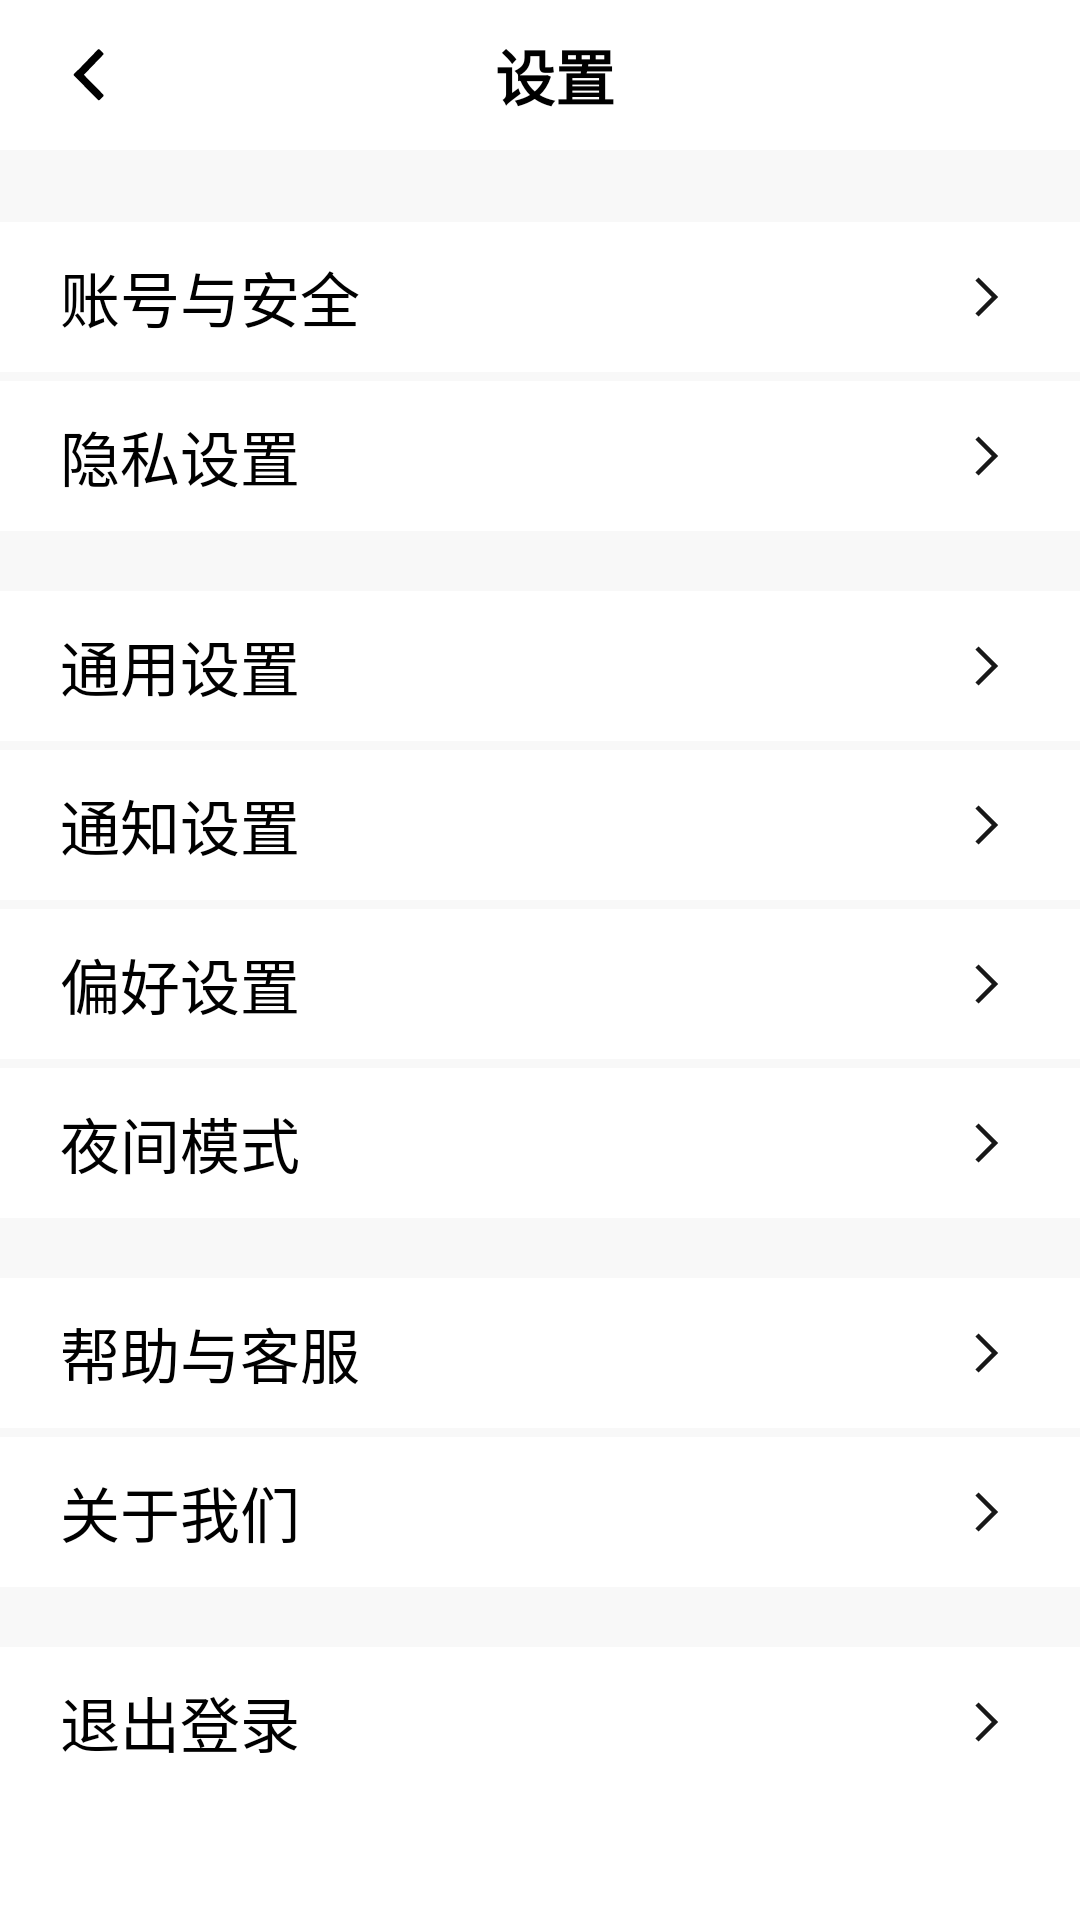

Icons on this 1080 x 1920 Android screen, each with the point to tap as (x,y):
back: (88,75)
